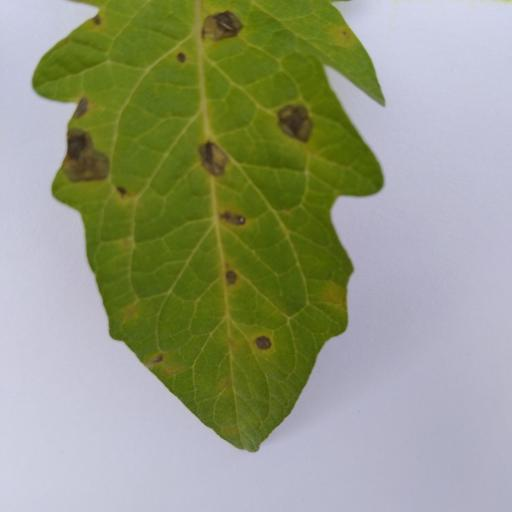disease_tomato: (30, 0, 387, 455)
